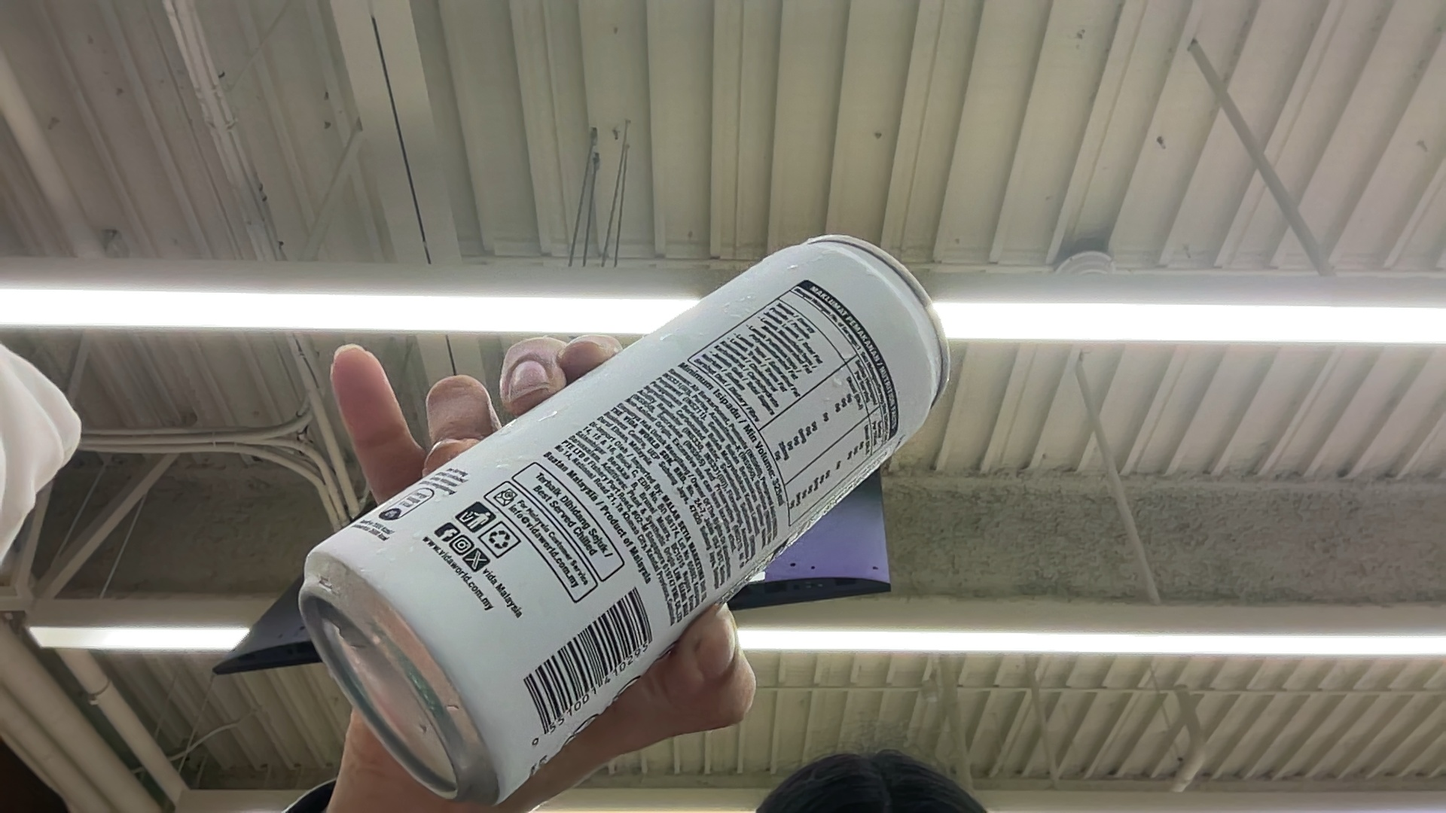Metal: (39, 427, 335, 636)
